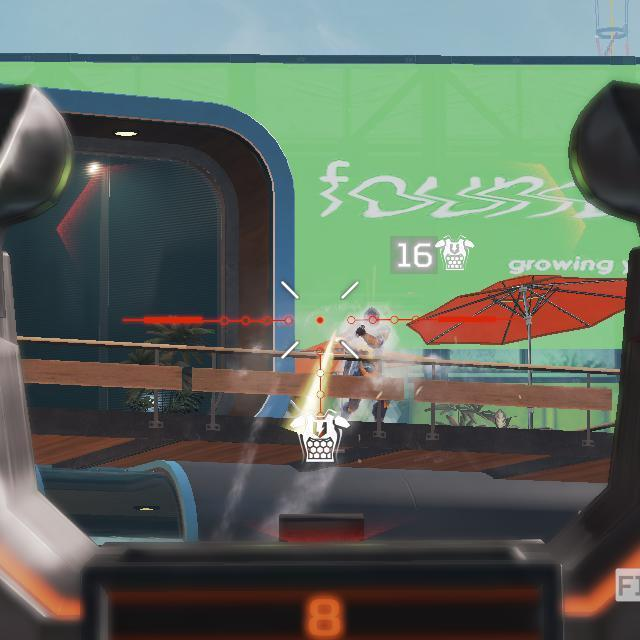avatar: (338, 305, 394, 424)
